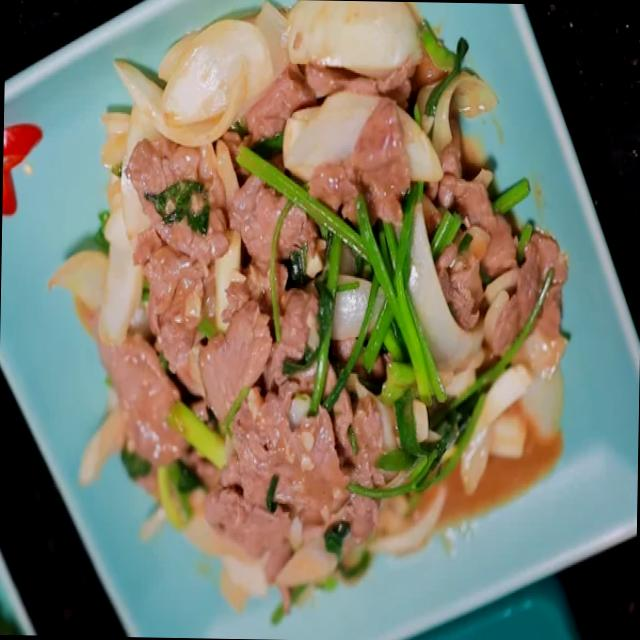bo xao: (51, 1, 569, 623)
